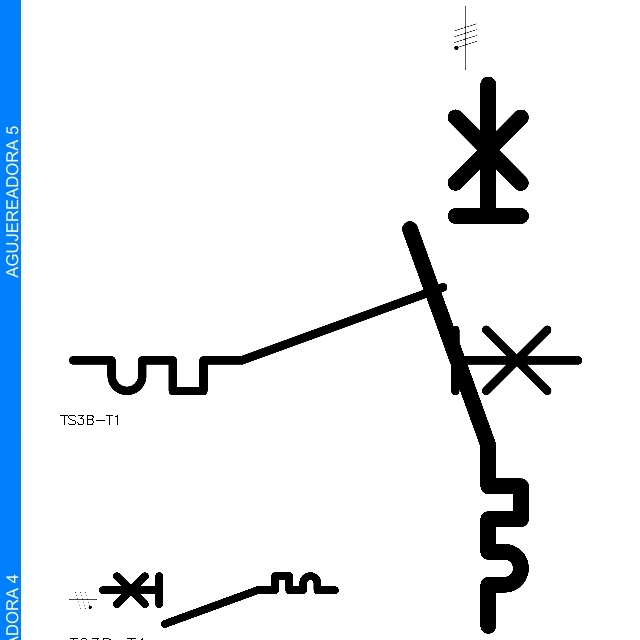interruptor_termomagnetico: (396, 70, 535, 640), (60, 274, 591, 404), (96, 570, 341, 630)
